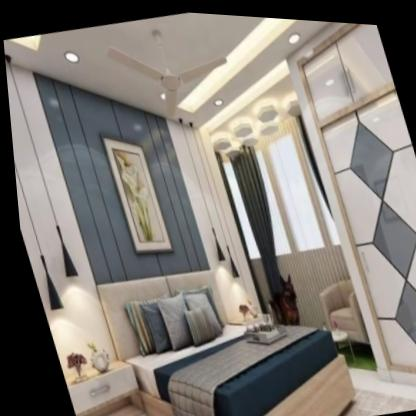Bed: (90, 239, 355, 416)
Frame: (90, 115, 174, 262)
Lamp: (3, 45, 80, 286), (3, 43, 63, 314), (171, 112, 226, 266)
Nightstand: (52, 350, 148, 416)
